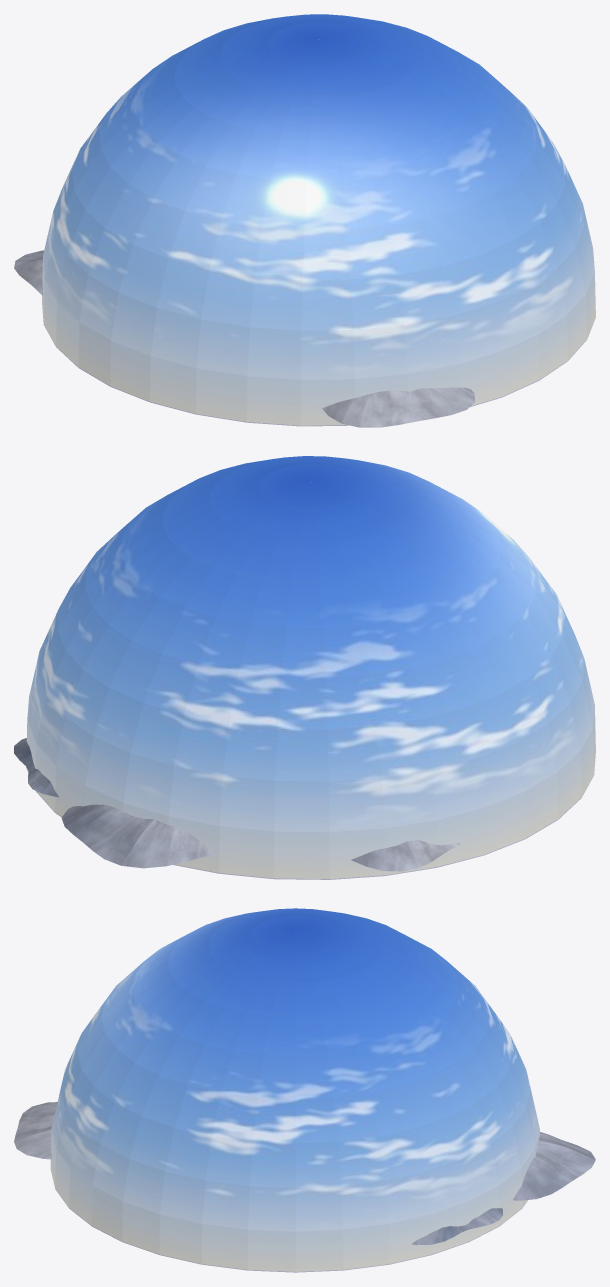
The model's file is lugar-cdmx-ciudad.glb.
3 views of the same model, one above another, from view 1: azimuth 30°, elevation 25°; view 2: azimuth 150°, elevation 25°; view 3: azimuth 270°, elevation 25° (orthographic). The views are drawn at different scales.
Visible parts, largest first — view 1: planoC, vertT; view 2: planoC, vertT; view 3: planoC, vertT.
Boxes of the visible parts, x1,y1,x2,y2 form: planoC: (42, 14, 595, 426); vertT: (14, 250, 474, 427); planoC: (26, 456, 595, 879); vertT: (14, 738, 460, 871); planoC: (50, 908, 539, 1272); vertT: (14, 1102, 595, 1245).
Bounding box in the file's own units: 6584 × 3530 × 7817.
15 materials, 14 textured.
